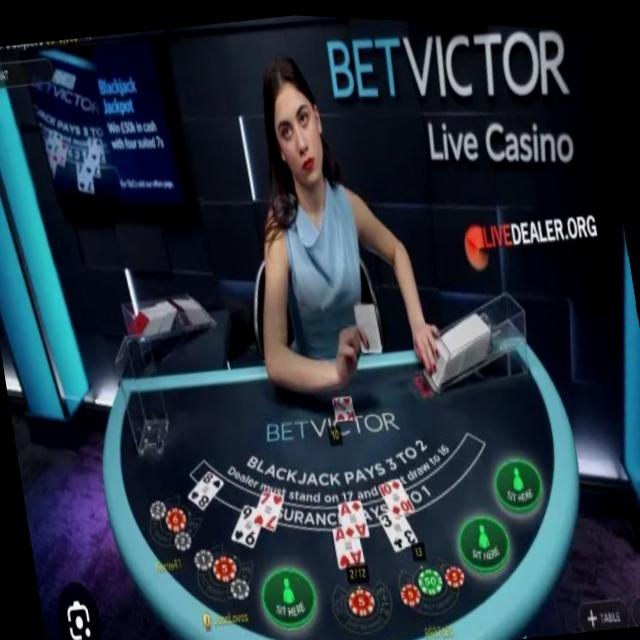Card-10: (378, 472, 415, 514)
Card-3: (379, 508, 418, 548)
Card-7: (252, 487, 284, 529)
Card-8: (187, 468, 224, 509)
Card-9: (231, 501, 261, 546)
Card-A: (332, 524, 364, 567), (338, 495, 369, 537)
Card-K: (332, 392, 356, 418)
